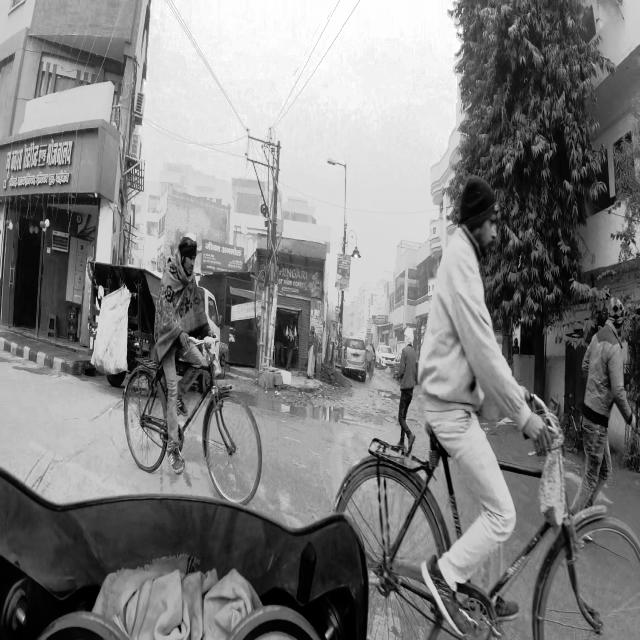Car: (341, 332, 370, 383)
LCV: (98, 259, 222, 381)
